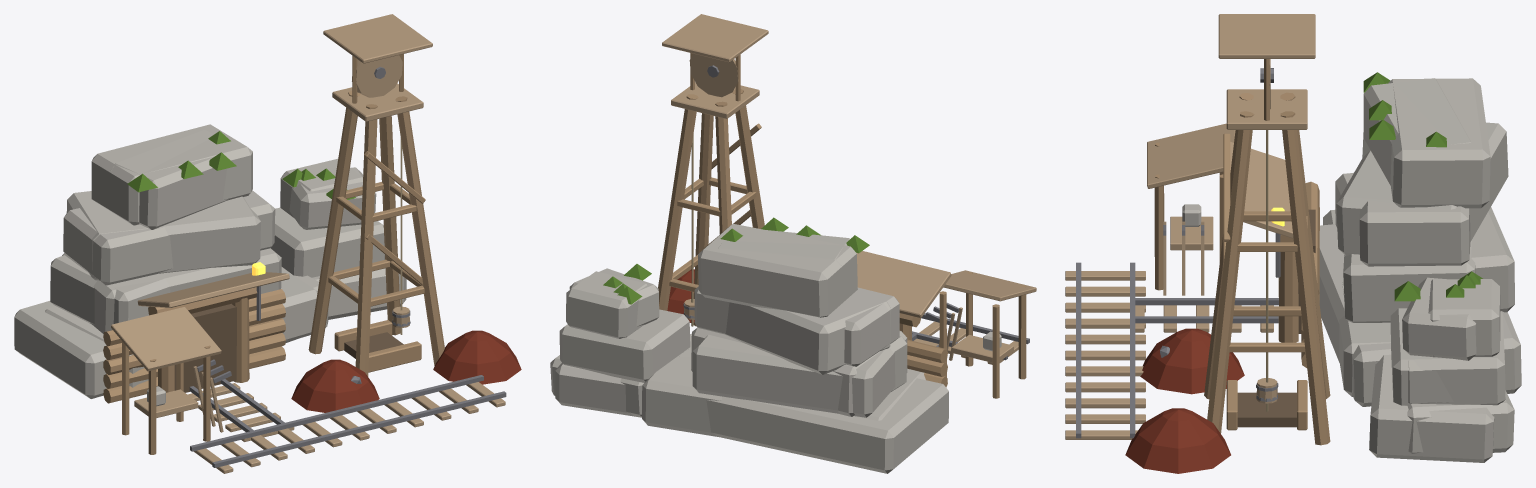
Rendered from bld_rudnik.glb.
The picture shows the model from 3 angles, left to right: view 1: azimuth 30°, elevation 25°; view 2: azimuth 150°, elevation 25°; view 3: azimuth 270°, elevation 25°; orthographic projection. The views are drawn at different scales.
Parts seen in each view (by area): view 1: rudnik; view 2: rudnik; view 3: rudnik.
Part boxes in pixels (<box>): rudnik: <box>14,14,521,473</box>; rudnik: <box>550,14,1036,473</box>; rudnik: <box>1065,14,1521,473</box>.
Bounding box in the file's own units: 1.96 × 1.59 × 1.7.
